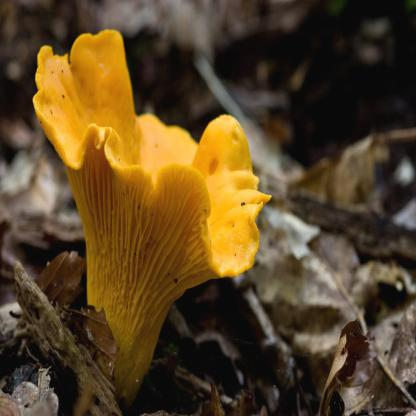chanterelle: (32, 28, 272, 400)
